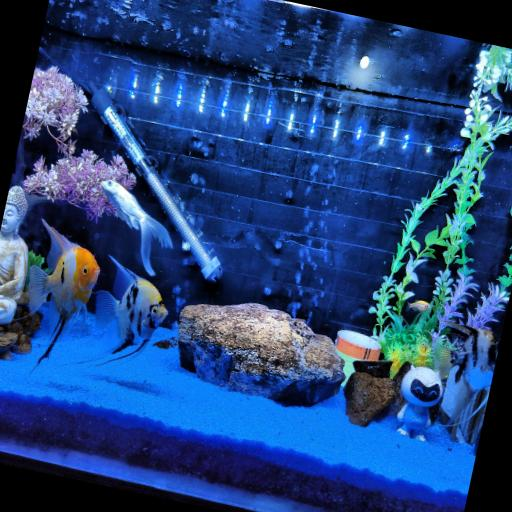Fish: (28, 219, 98, 364), (95, 257, 167, 359), (100, 180, 171, 275), (433, 323, 499, 423), (405, 300, 430, 312)
